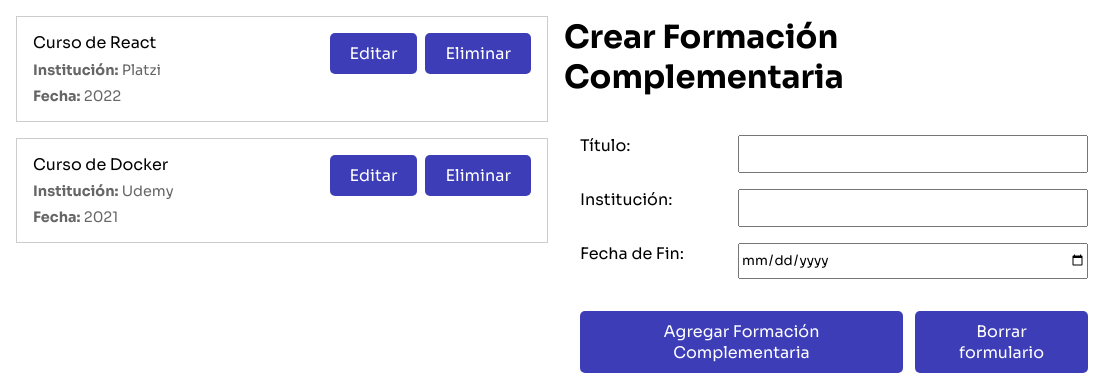
Test: <FormacionComplementaria /> › «Editar» + «Borrar formulario» limpia los campos y desacopla el id
Click the button "Editar" in the row of "Platzi" at (374, 54), box [330, 33, 418, 74]
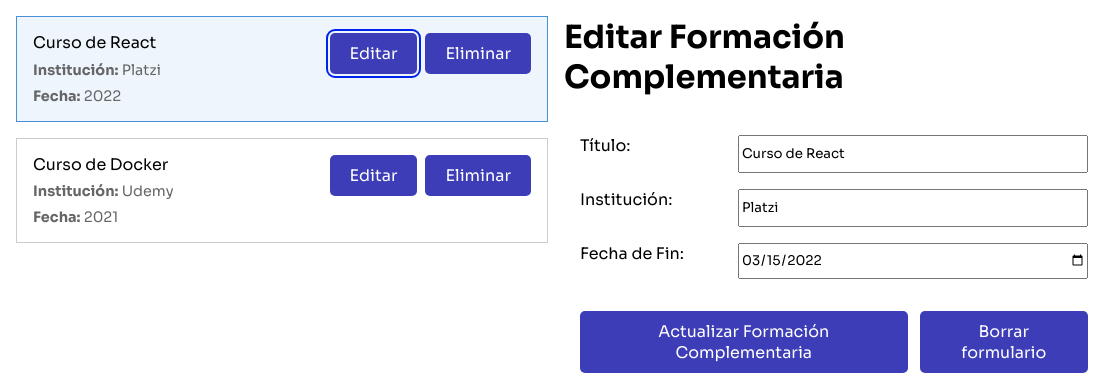
Click the button "Borrar formulario" at (1004, 342), box [920, 311, 1088, 373]
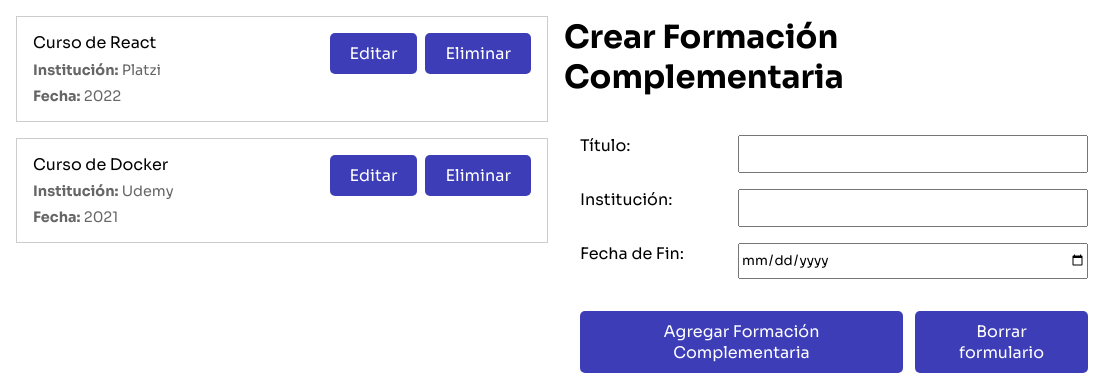
Expected: the field labelled "Título:" is empty, [738, 135, 1088, 173]
Expected: the field labelled "Institución:" is empty, [738, 189, 1088, 227]
Expected: the date field labelled "Fecha de Fin:" is empty, [738, 243, 1088, 279]
